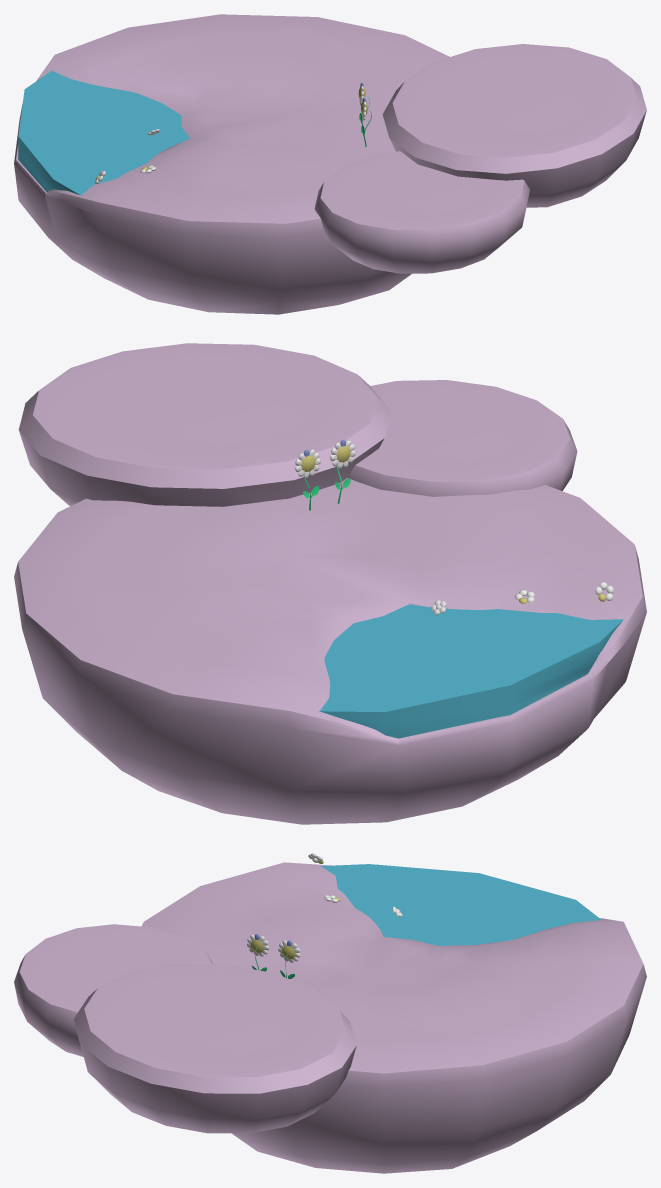
Rendered from Isola_01_tutorial 1.fbx.
The picture shows the model from 3 angles, top to bottom: view 1: azimuth 30°, elevation 25°; view 2: azimuth 150°, elevation 25°; view 3: azimuth 270°, elevation 25°; orthographic projection. The views are drawn at different scales.
Visible parts, largest first — view 1: Sphere, Sphere_1_5, Sphere_2_4, Cylinder; view 2: Sphere, Sphere_1_5, Cylinder, Sphere_2_4; view 3: Sphere, Sphere_1_5, Cylinder, Sphere_2_4.
Part boxes in pixels (<box>): Sphere: <box>14,14,449,314</box>; Sphere_1_5: <box>382,44,646,207</box>; Sphere_2_4: <box>314,151,529,273</box>; Cylinder: <box>18,70,189,195</box>; Sphere: <box>14,478,646,824</box>; Sphere_1_5: <box>18,343,391,506</box>; Cylinder: <box>319,604,623,738</box>; Sphere_2_4: <box>347,380,577,496</box>; Sphere: <box>141,862,646,1173</box>; Sphere_1_5: <box>73,964,356,1133</box>; Cylinder: <box>320,864,601,945</box>; Sphere_2_4: <box>14,924,212,1056</box>.
Size of the model in its own units: 8437 by 3422 by 8625.
